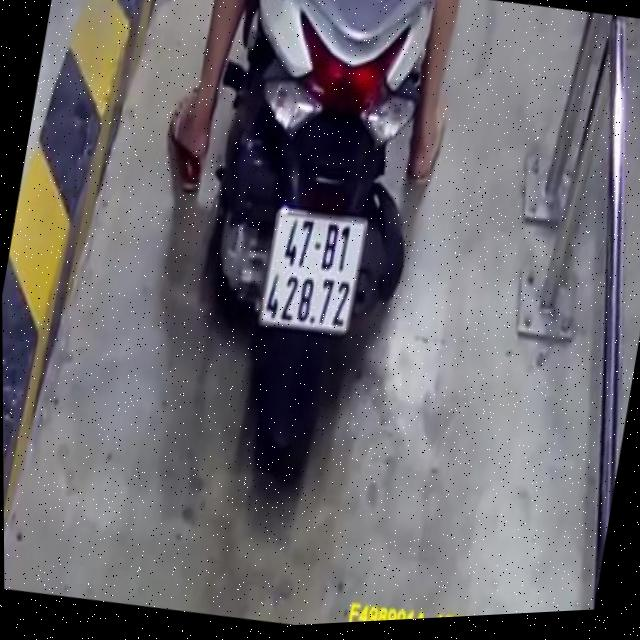motorcycle: (140, 0, 473, 524)
plate: (250, 195, 371, 346)
